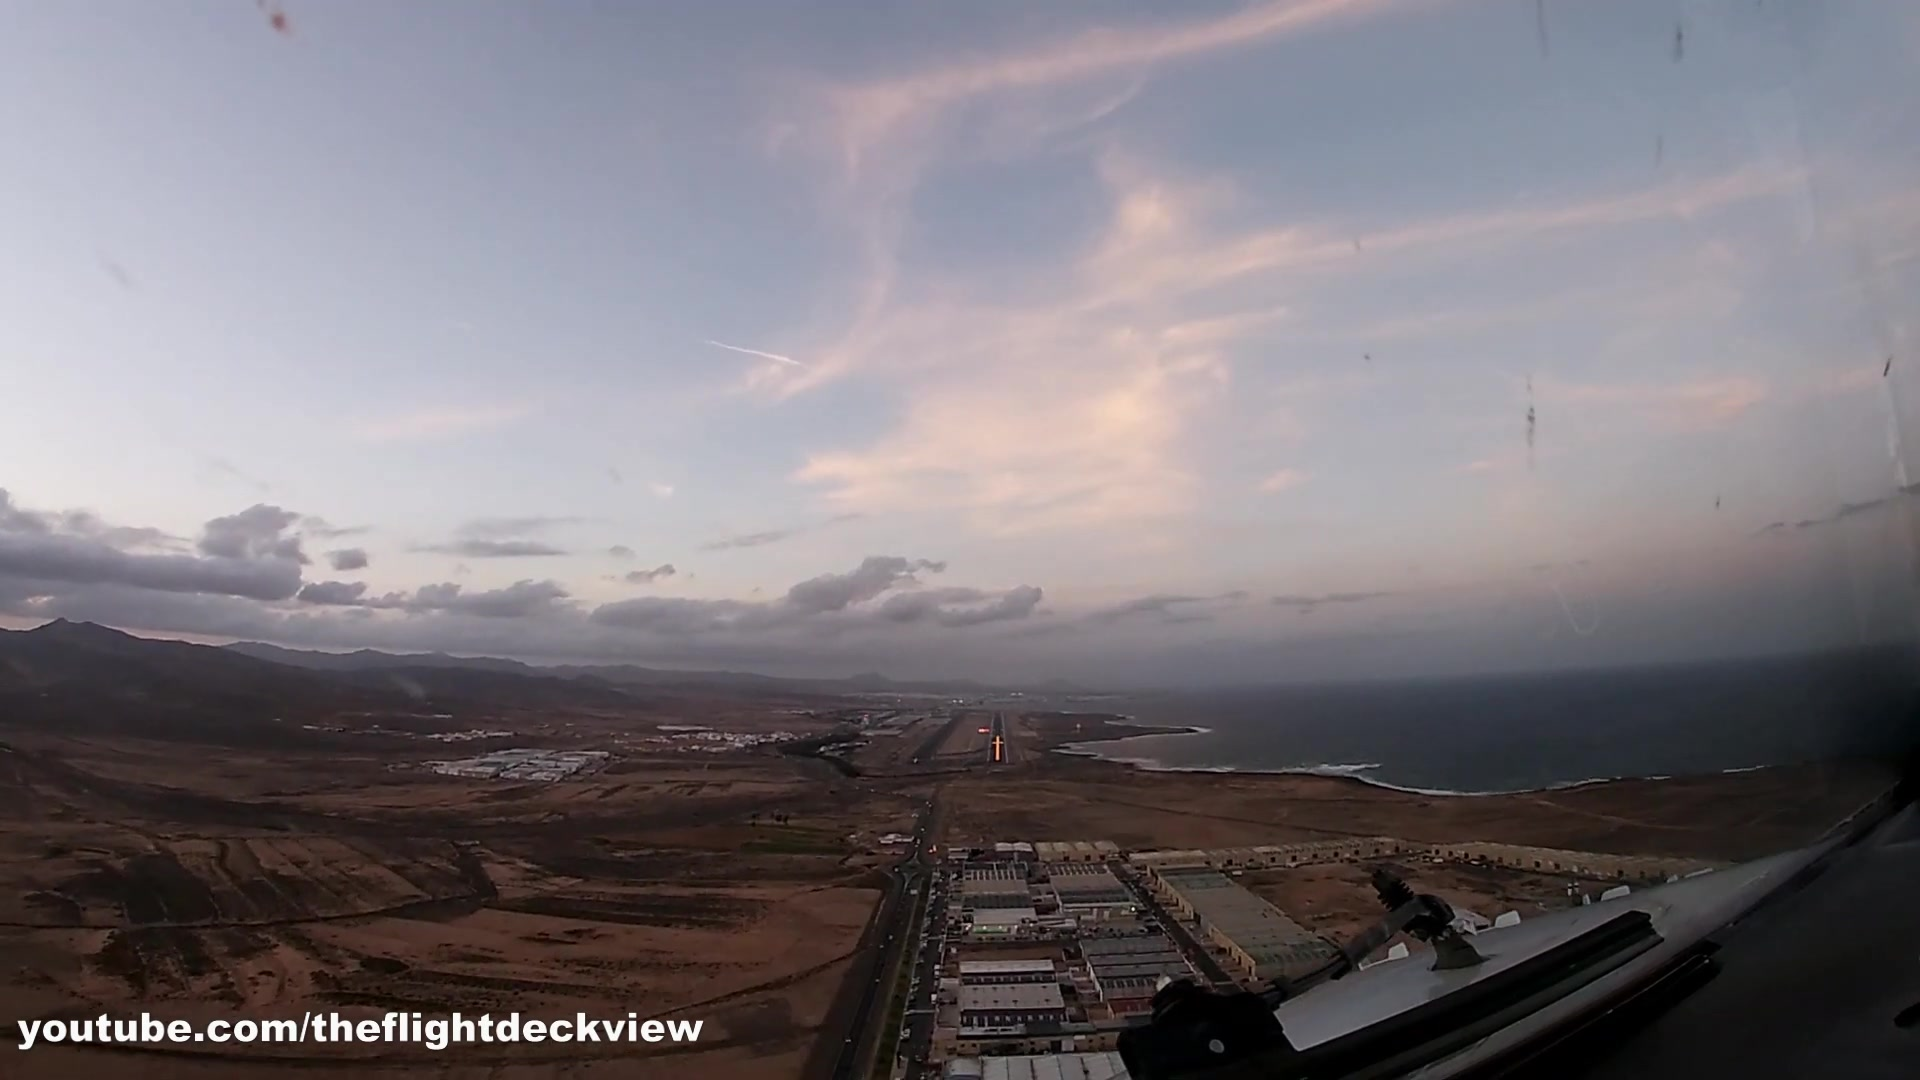runway: (985, 709, 1013, 762)
